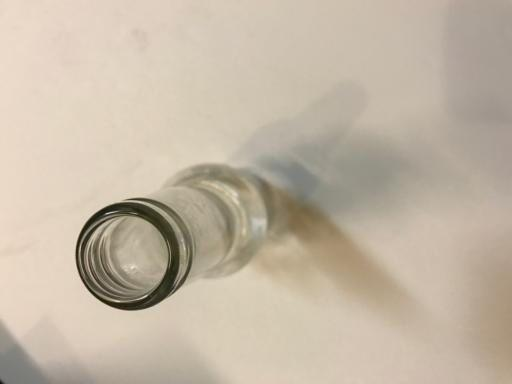botolkaca: (75, 163, 266, 314)
